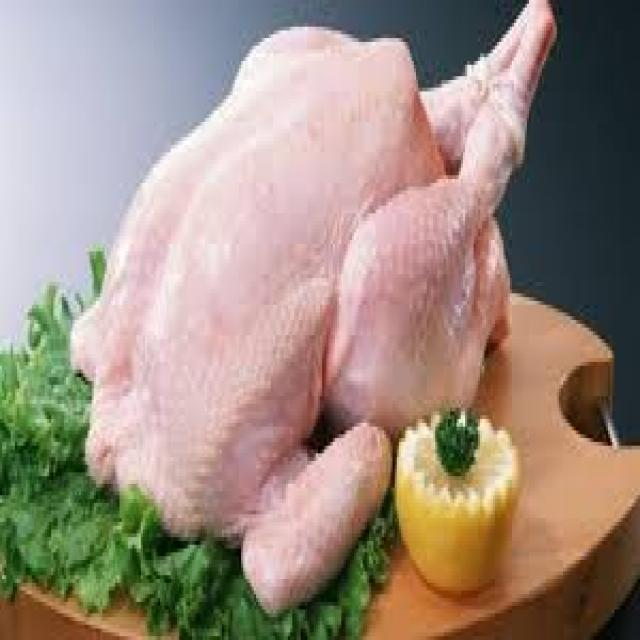chicken: (76, 0, 565, 599)
